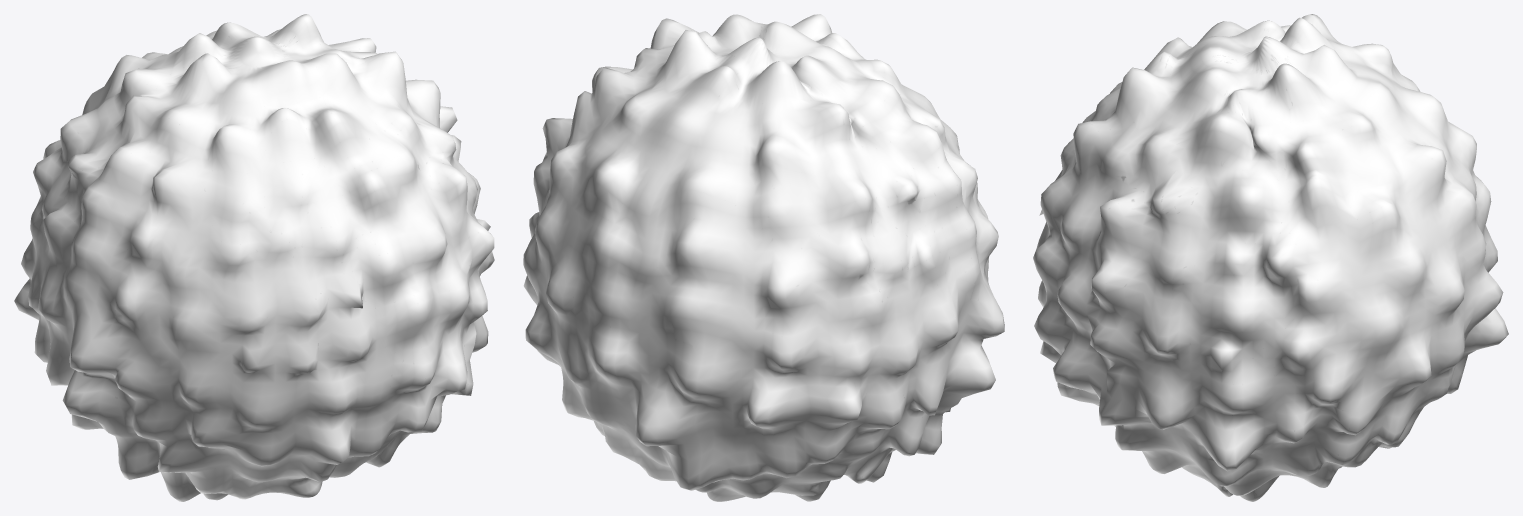
The model's file is whitebloodcell.glb.
3 views of the same model, side by side, from view 1: azimuth 30°, elevation 25°; view 2: azimuth 150°, elevation 25°; view 3: azimuth 270°, elevation 25° (orthographic). The views are drawn at different scales.
Parts seen in each view (by area): view 1: Sphere; view 2: Sphere; view 3: Sphere.
Part boxes in pixels (left/top/right/bottom): Sphere: left=14, top=14, right=494, bottom=501; Sphere: left=523, top=14, right=1004, bottom=501; Sphere: left=1033, top=14, right=1508, bottom=501.
Size of the model in its own units: 170 by 172 by 166.
1 material, 1 textured.
